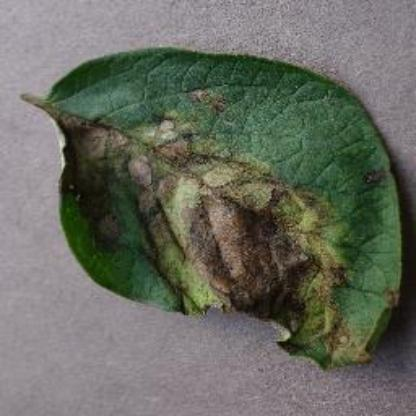Late-Blight: (14, 42, 410, 372)
